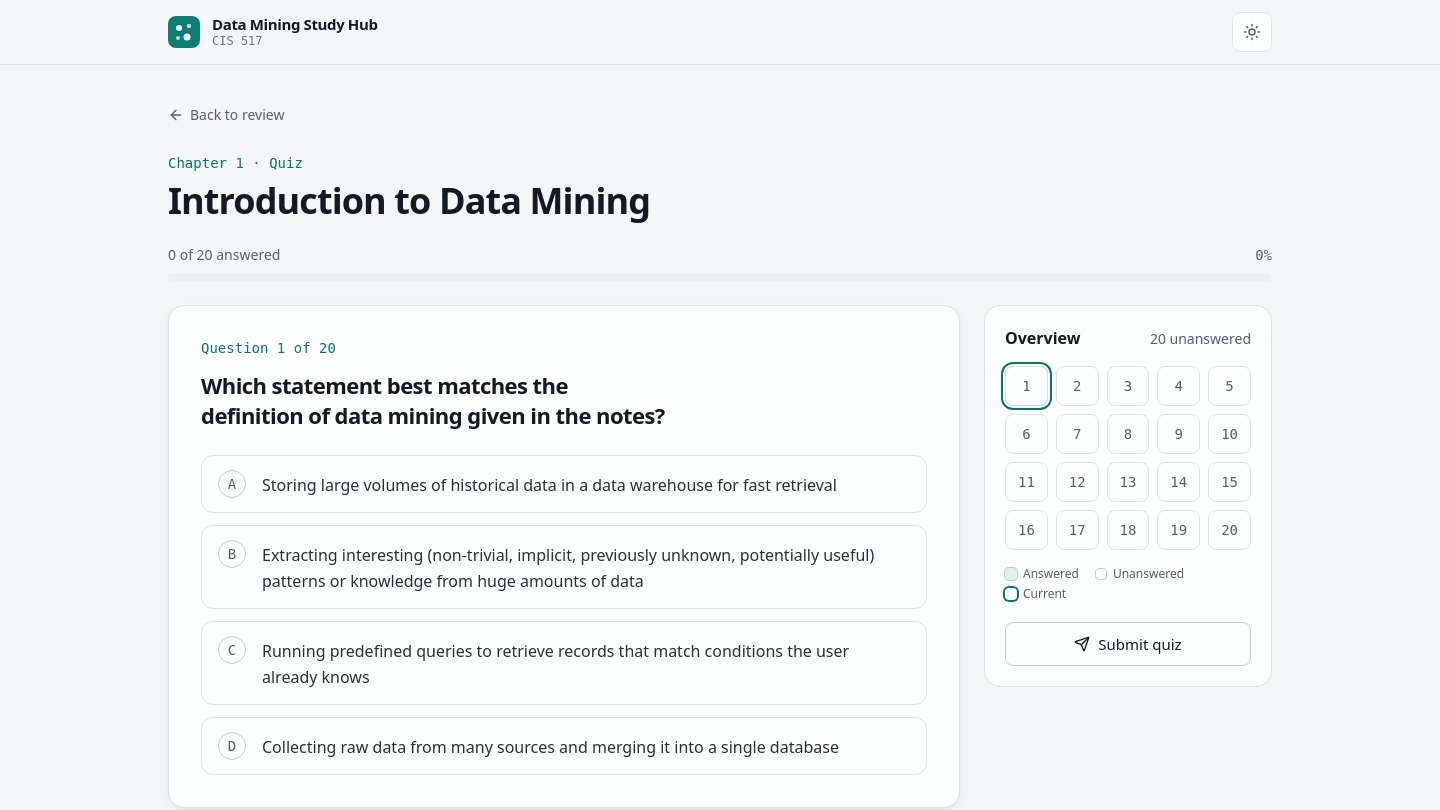
Scenario: quiz flow › preserves answers when navigating back and forth
What coordinates should you click on to do the following:
click the radio button labelled "Running predefined queries to retrieve records that match conditions the user already knows"
I would click on:
 (564, 662)
Its box is [201,620,927,704].
(page scrolled)
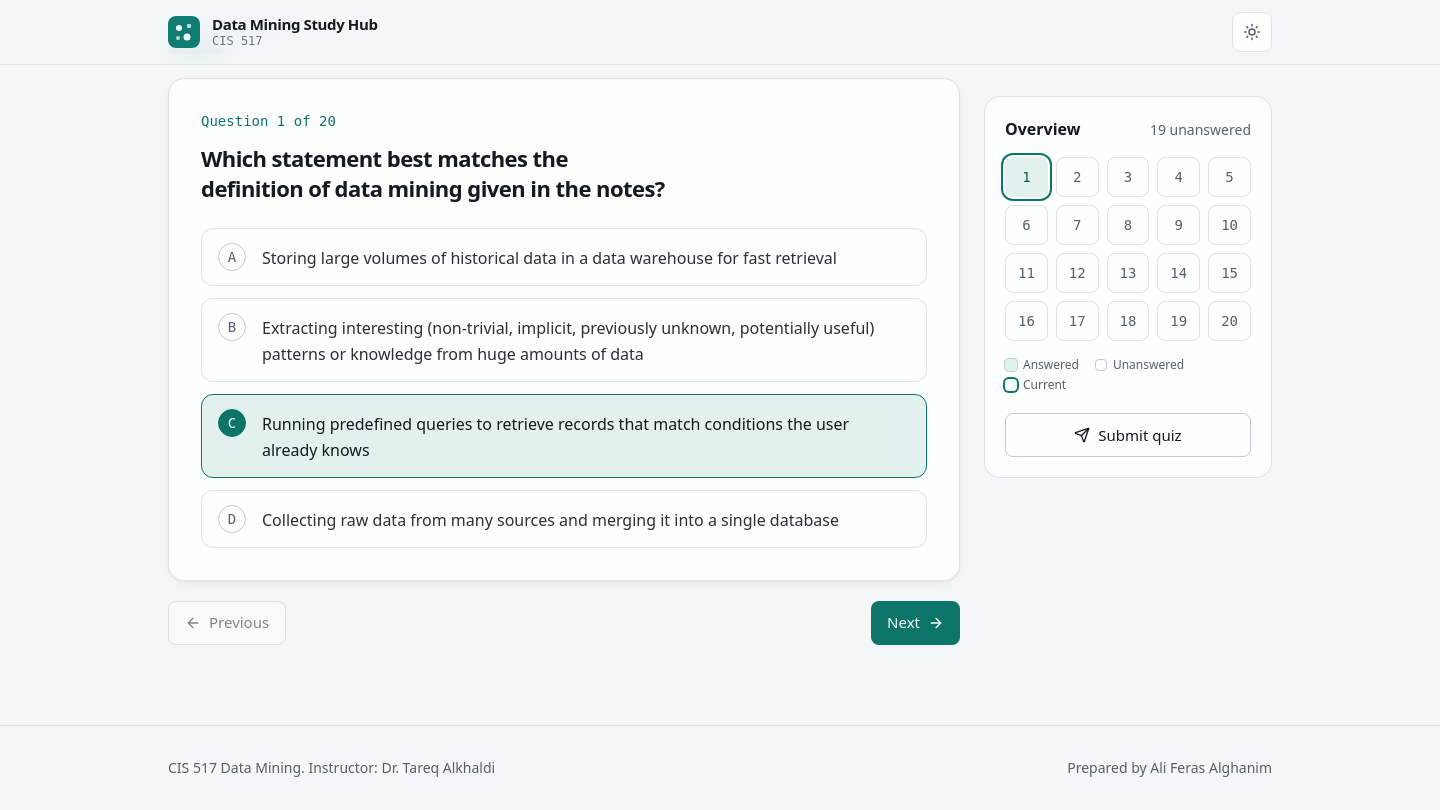
What coordinates should you click on to do the following:
click the button "Next"
I would click on:
 (916, 622)
Its box is [871,600,960,644].
(page scrolled)
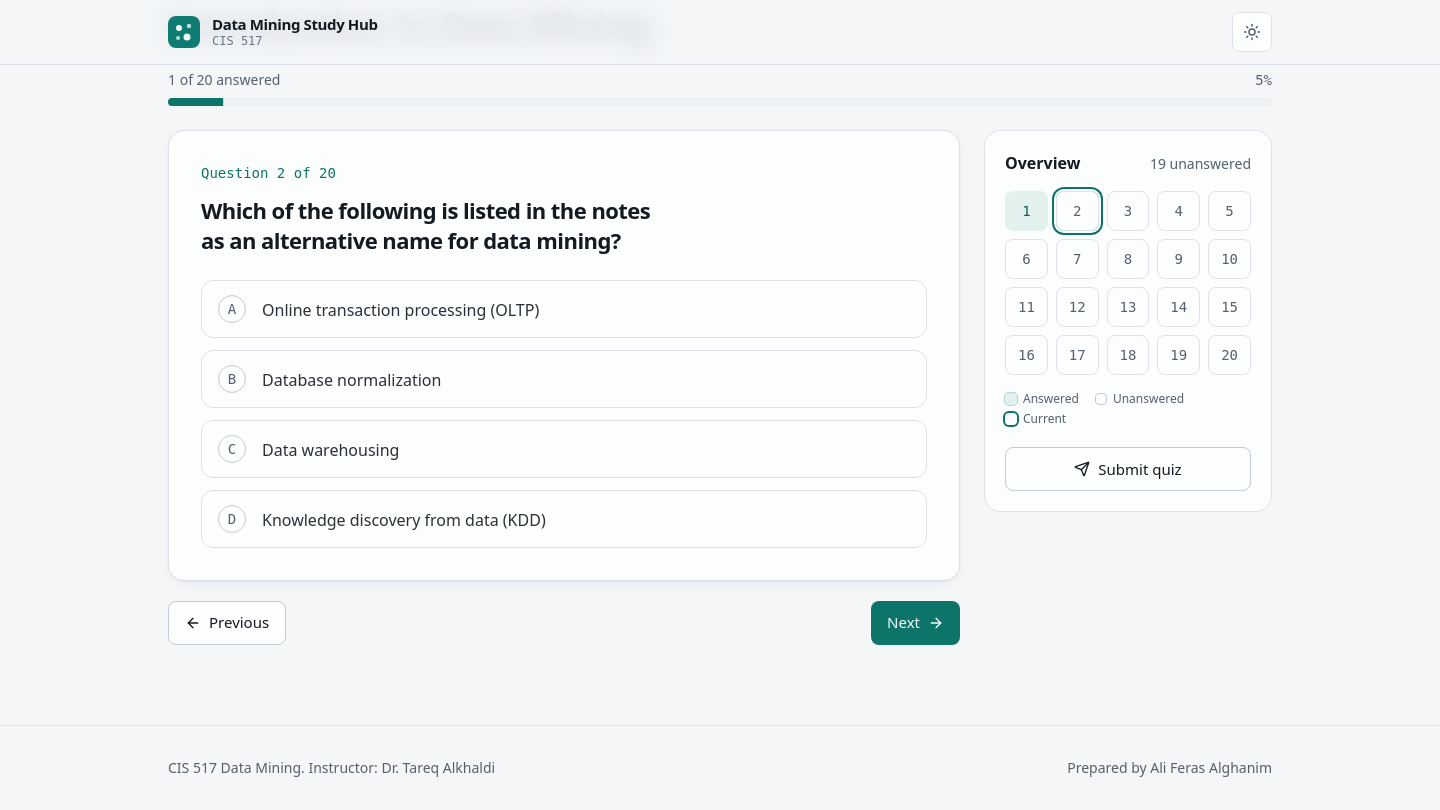
What coordinates should you click on to do the following:
click the radio button labelled "Database normalization"
I would click on:
 (352, 380)
Its box is [201,350,927,408].
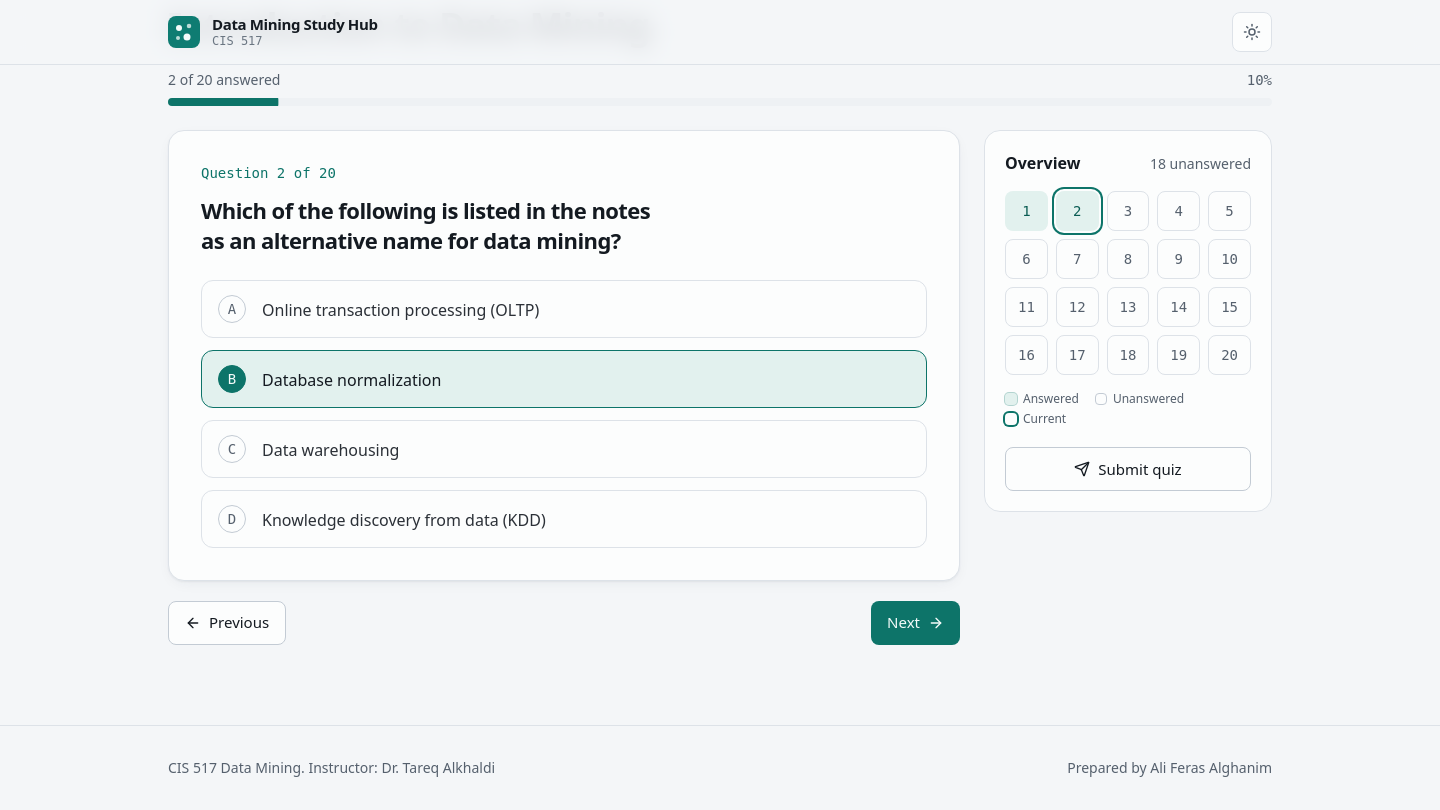
What coordinates should you click on to do the following:
click the button "Previous"
I would click on:
 (227, 622)
Its box is [168,600,286,644].
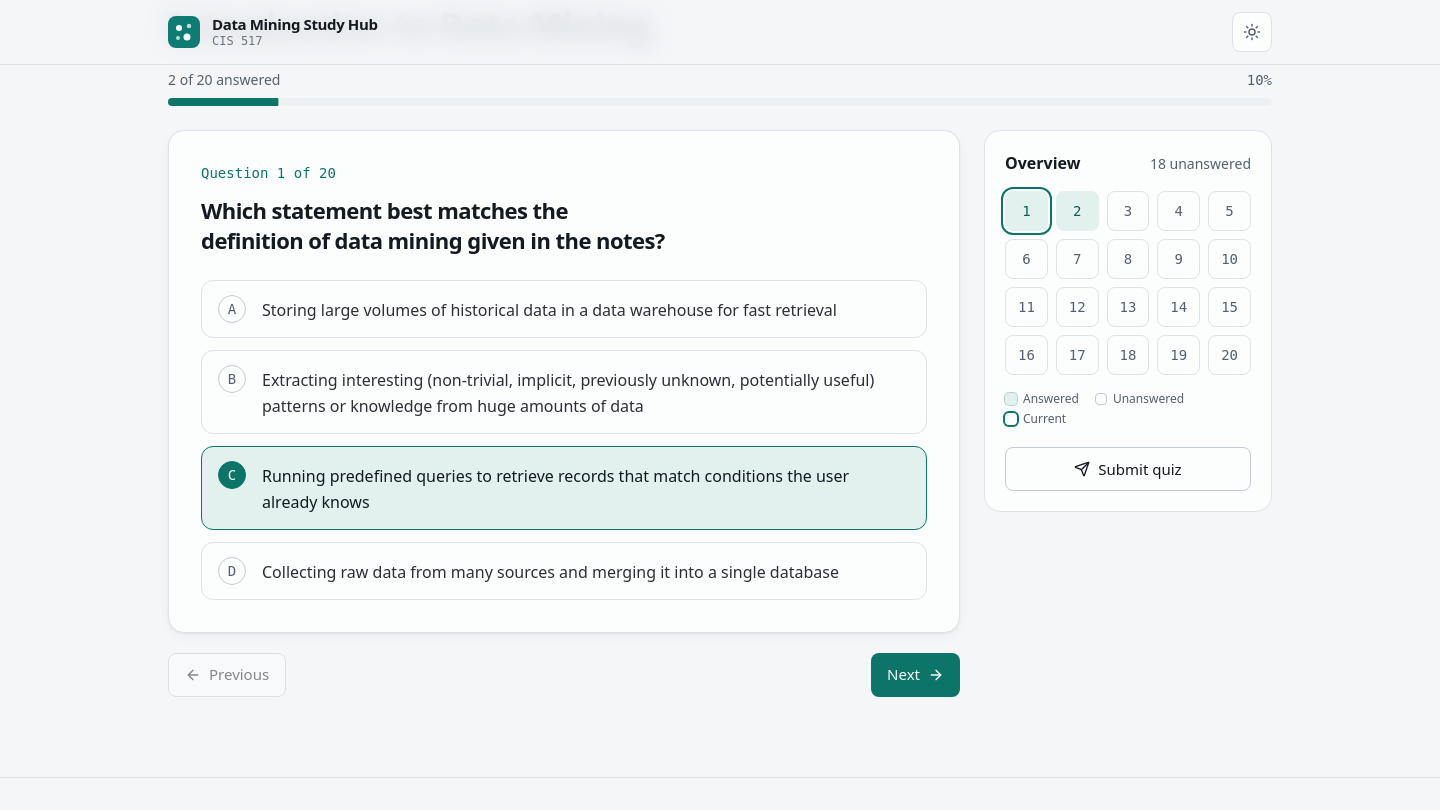
Now the radio button labelled "Running predefined queries to retrieve records that match conditions the user already knows" is checked, box [201,446,927,530]
What coordinates should you click on to do the following:
click the radio button labelled "Storing large volumes of historical data in a data warehouse for fast retrieval"
I would click on:
 (564, 308)
Its box is [201,280,927,338].
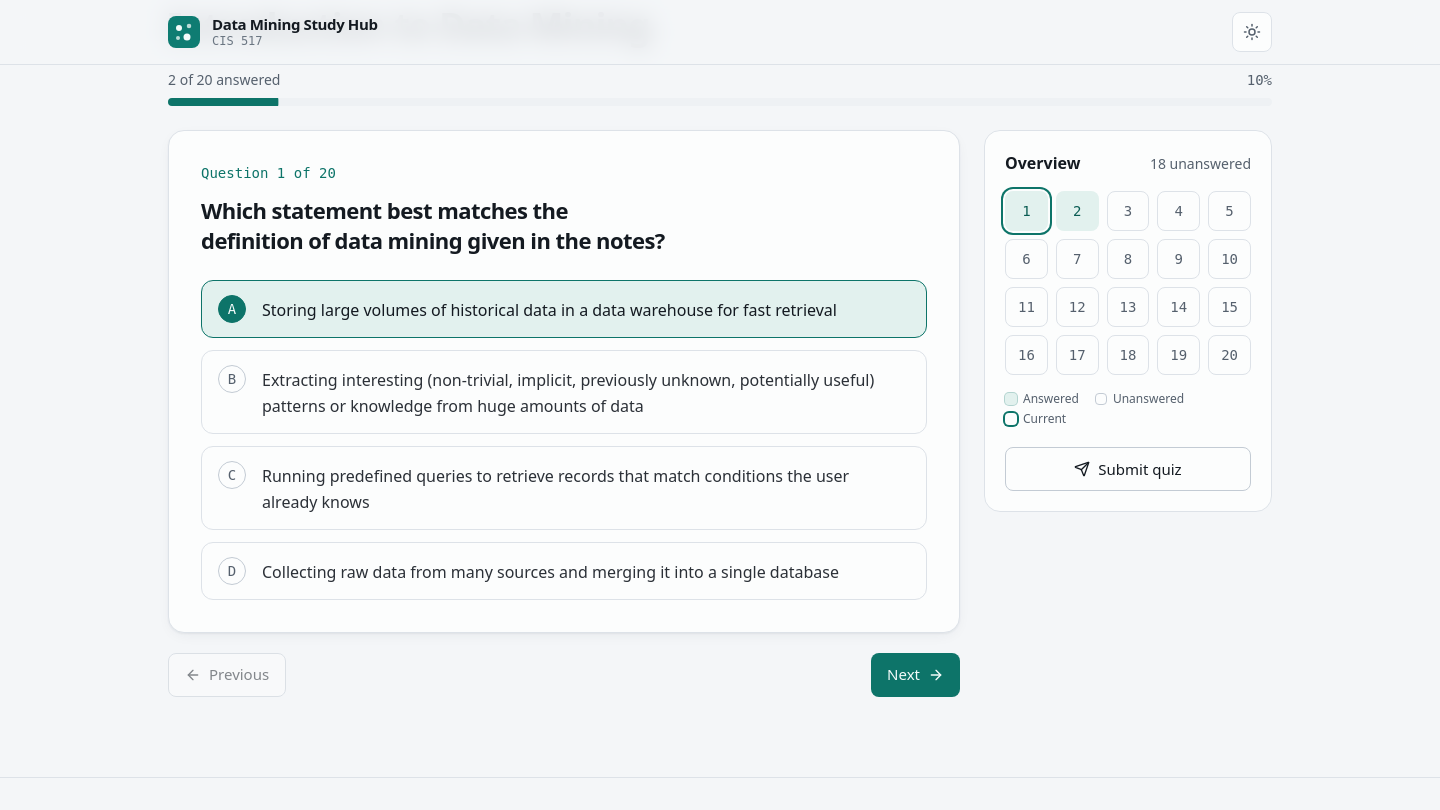
What coordinates should you click on to do the following:
click the button named "Question 2, answered"
I would click on:
 (1077, 211)
Its box is [1056,191,1099,231].
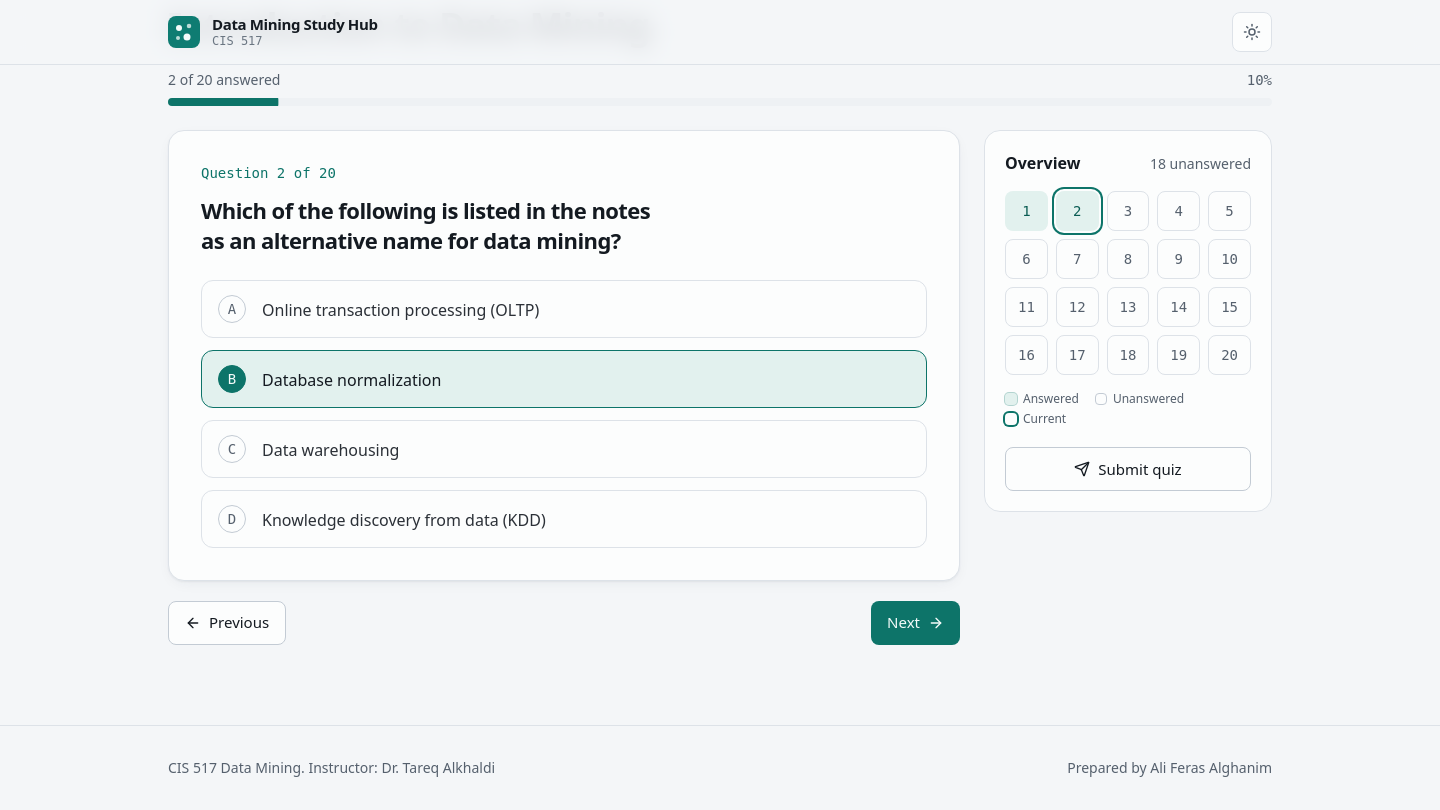
Now the radio button labelled "Database normalization" is checked, box [201,350,927,408]
